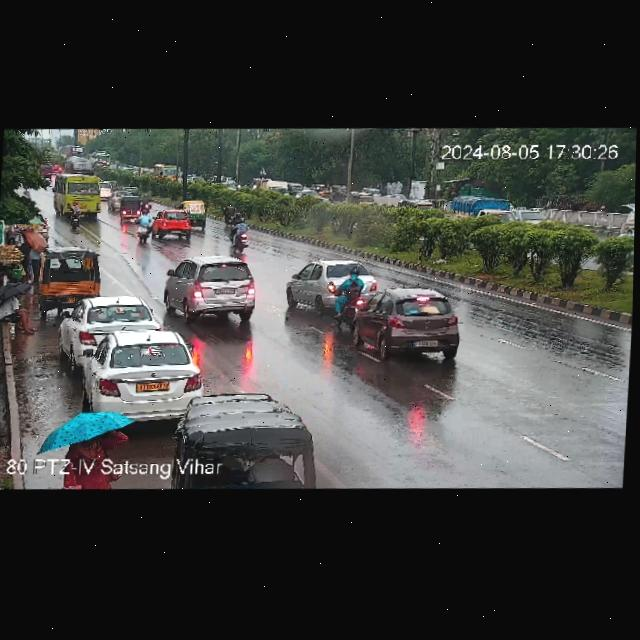bus: (51, 170, 106, 216), (154, 162, 184, 183), (91, 147, 111, 168), (63, 145, 81, 157)
car: (85, 325, 207, 410), (348, 281, 468, 365), (151, 244, 262, 320), (54, 294, 152, 351), (36, 241, 109, 304), (275, 254, 339, 304), (149, 205, 195, 238), (117, 193, 145, 220)
motorcycle: (329, 266, 364, 326), (224, 215, 251, 246), (136, 208, 151, 247), (65, 197, 82, 228), (140, 193, 153, 214)
person: (63, 430, 128, 491), (179, 198, 208, 229)
truck: (451, 193, 518, 229), (60, 155, 94, 172)
